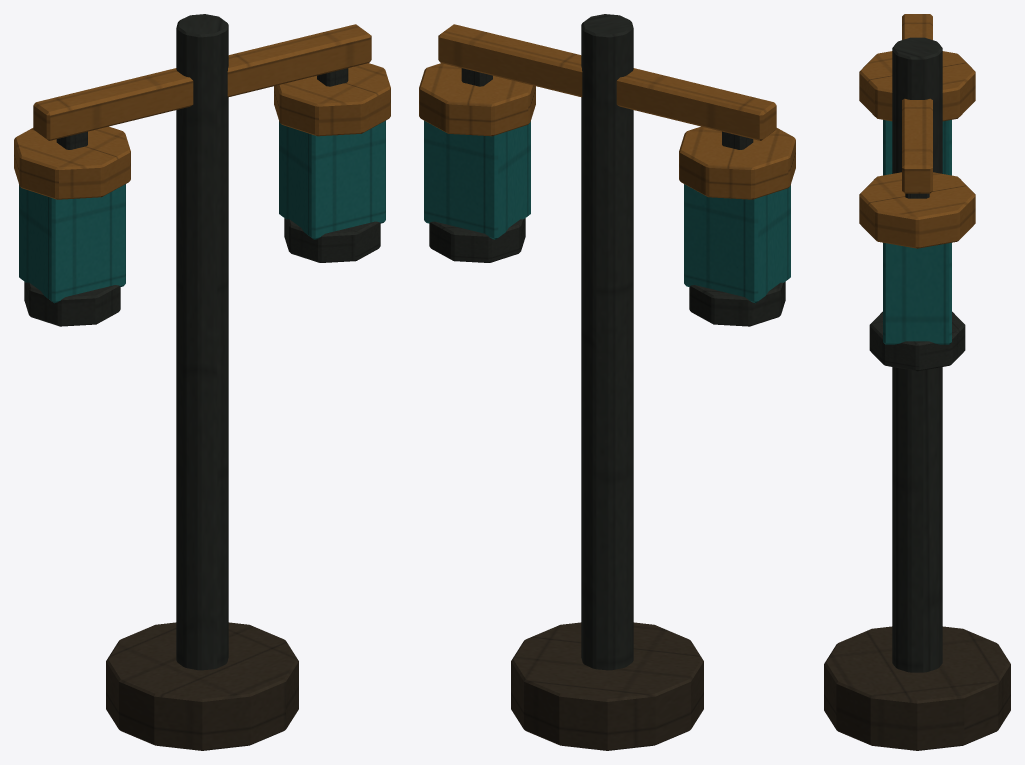
Rendered from iron-lamp-post.e2.glb.
The picture shows the model from 3 angles, left to right: view 1: azimuth 30°, elevation 25°; view 2: azimuth 150°, elevation 25°; view 3: azimuth 270°, elevation 25°; orthographic projection. The views are drawn at different scales.
Visible parts, largest first — view 1: IronLampPostE2; view 2: IronLampPostE2; view 3: IronLampPostE2.
Part boxes in pixels (left/top/right/bottom): IronLampPostE2: left=14, top=14, right=390, bottom=750; IronLampPostE2: left=419, top=14, right=795, bottom=750; IronLampPostE2: left=824, top=14, right=1010, bottom=750.
Bounding box in the file's own units: 1.18 × 2.12 × 0.54.
Materials: 1 (1 with a texture image).
